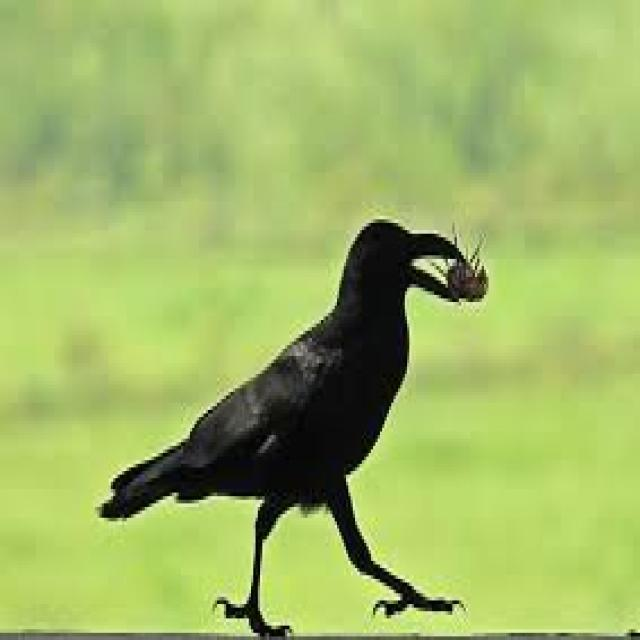crow: (310, 202, 470, 460)
